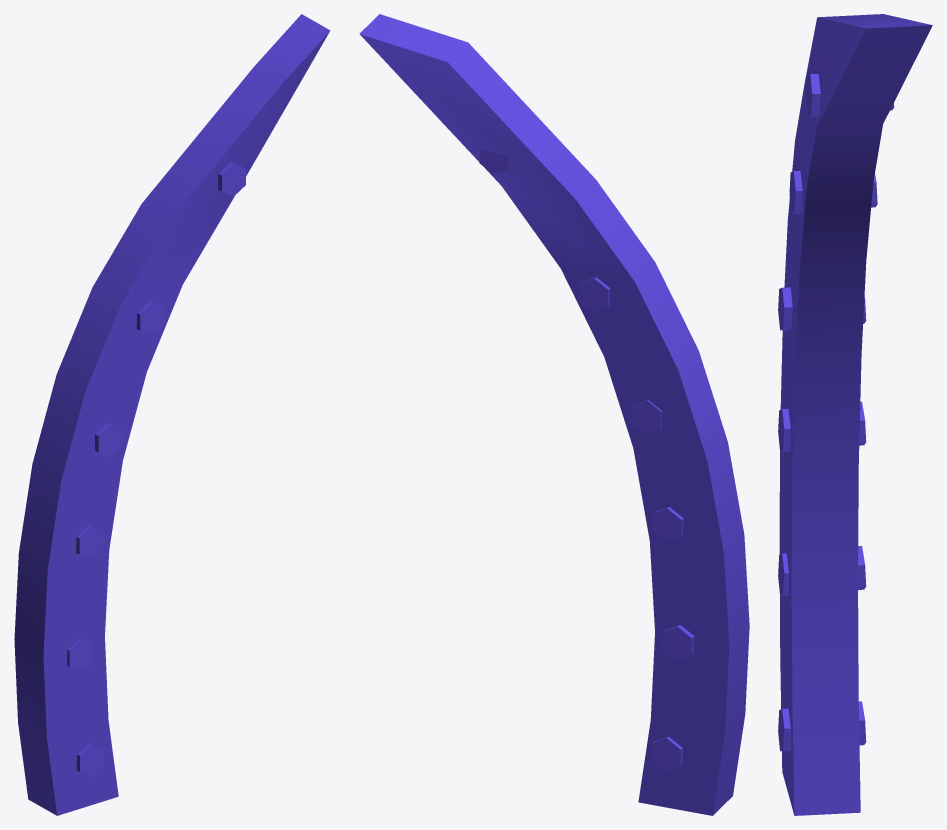
The model's file is pilier.FBX.
3 views of the same model, side by side, from view 1: azimuth 30°, elevation 25°; view 2: azimuth 150°, elevation 25°; view 3: azimuth 270°, elevation 25° (orthographic). The views are drawn at different scales.
Parts seen in each view (by area): view 1: Box004; view 2: Box004; view 3: Box004.
Boxes of the visible parts, bbox=[...] form: Box004: bbox=[14, 14, 330, 815]; Box004: bbox=[359, 14, 749, 815]; Box004: bbox=[778, 14, 932, 815].
Bounding box in the file's own units: 262 × 533 × 78.91.
